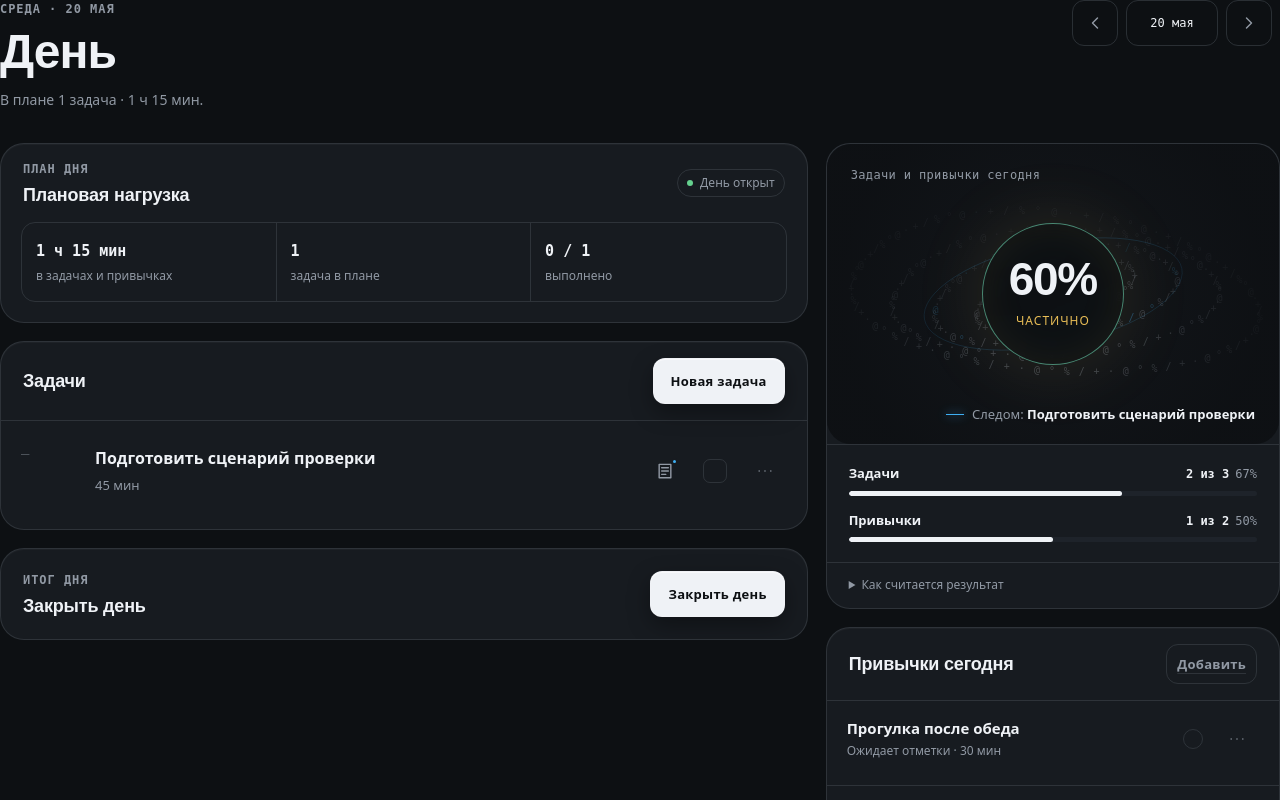
Test: DayPage › renders ready tasks and habits and opens both creation controls
The width and height of the screenshot is (1280, 800).
Expected: the text "Подготовить сценарий проверки" below "в задачах и привычках" is shown, [95,448,376,470]
Expected: the heading "Плановая нагрузка" is shown, [23,184,189,206]
Click the button named "заметка к задаче".
click(665, 471)  # box [643,449,687,493]
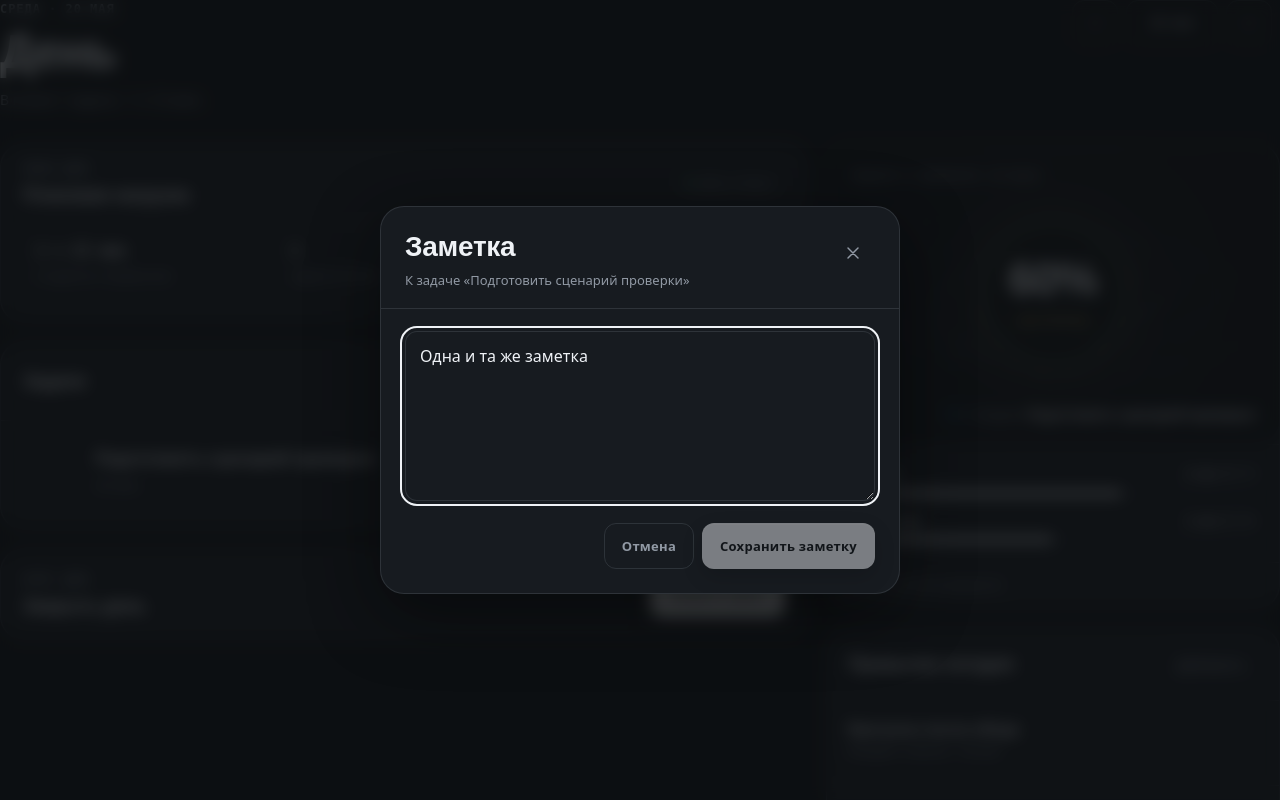
Expected: the text box named "заметка к задаче" holds "Одна и та же заметка", [405,331,875,501]
Click the button "Отмена".
click(649, 546)  # box [604,523,694,569]
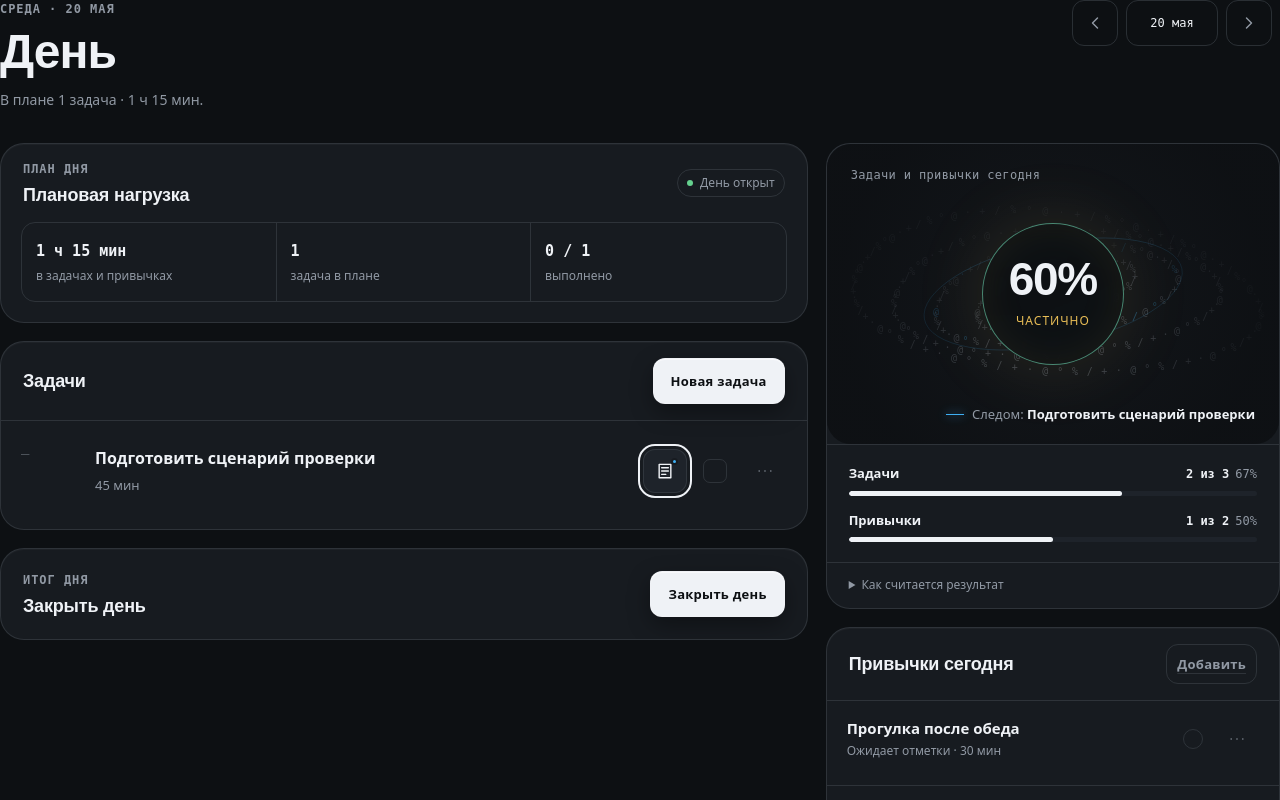
Click the button with aria-label "Добавить привычку".
click(1212, 664)  # box [1166,644,1257,684]
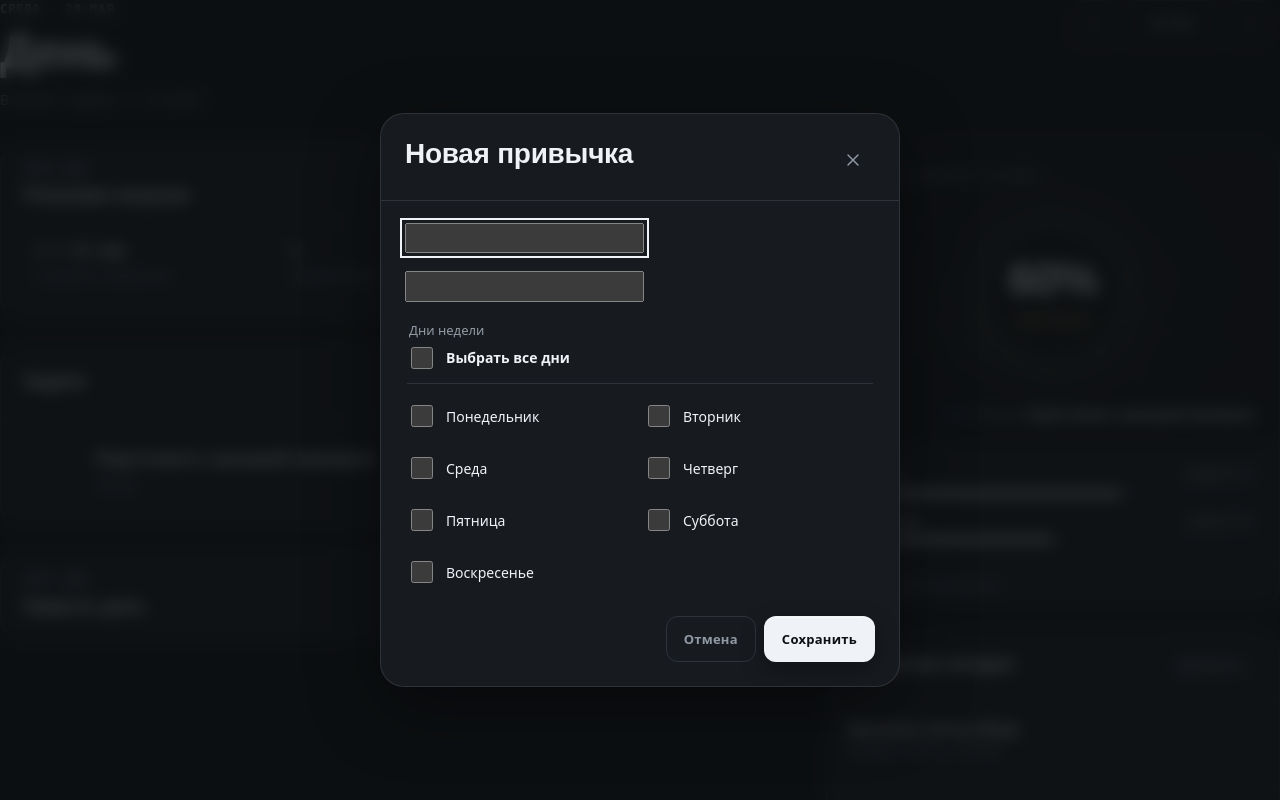
Expected: the dialog "Новая привычка" is shown, [380,113,900,687]
